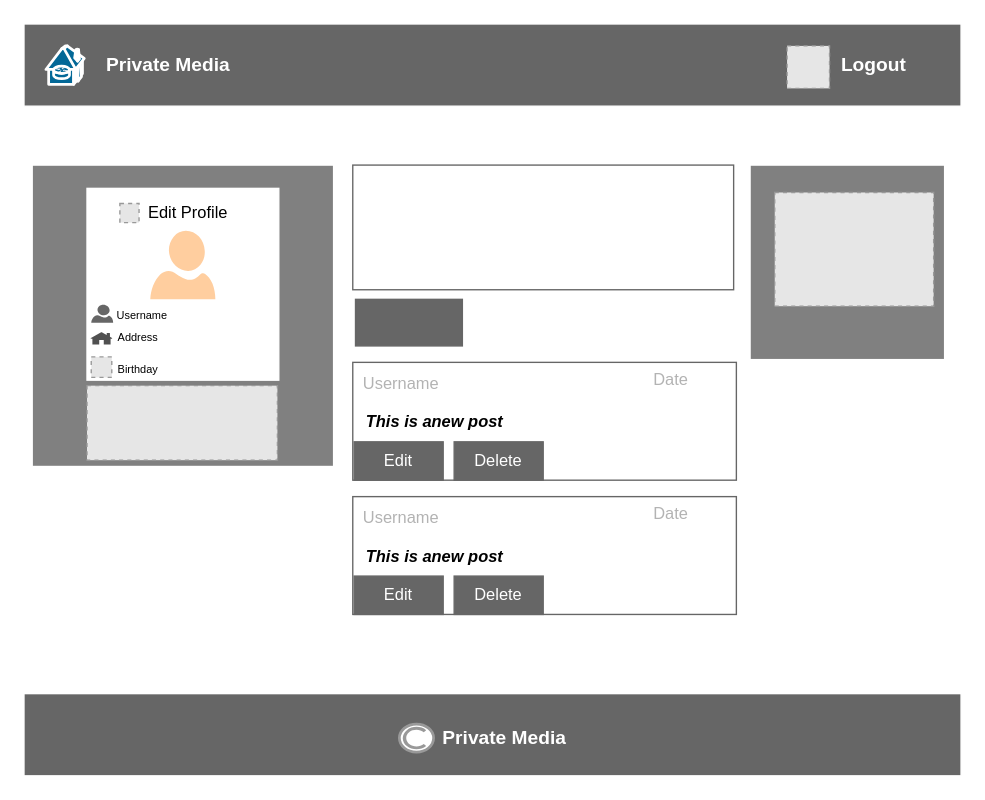
Image size: 985x800. Some labels were removed from this diagram. Grey dashed boxes stand in for pictures. Here are the shapes that lost their labels. From the top down, the centre of each, then its label:
the point at 542,227: What is on your mind now?
the point at 408,322: Post
